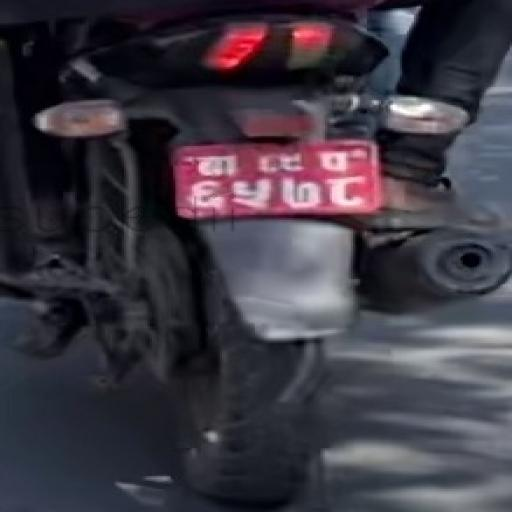license_plate: (169, 136, 382, 219)
